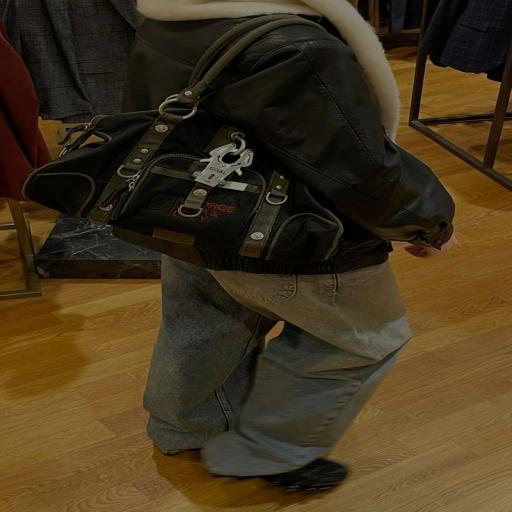door: (24, 15, 342, 262)
